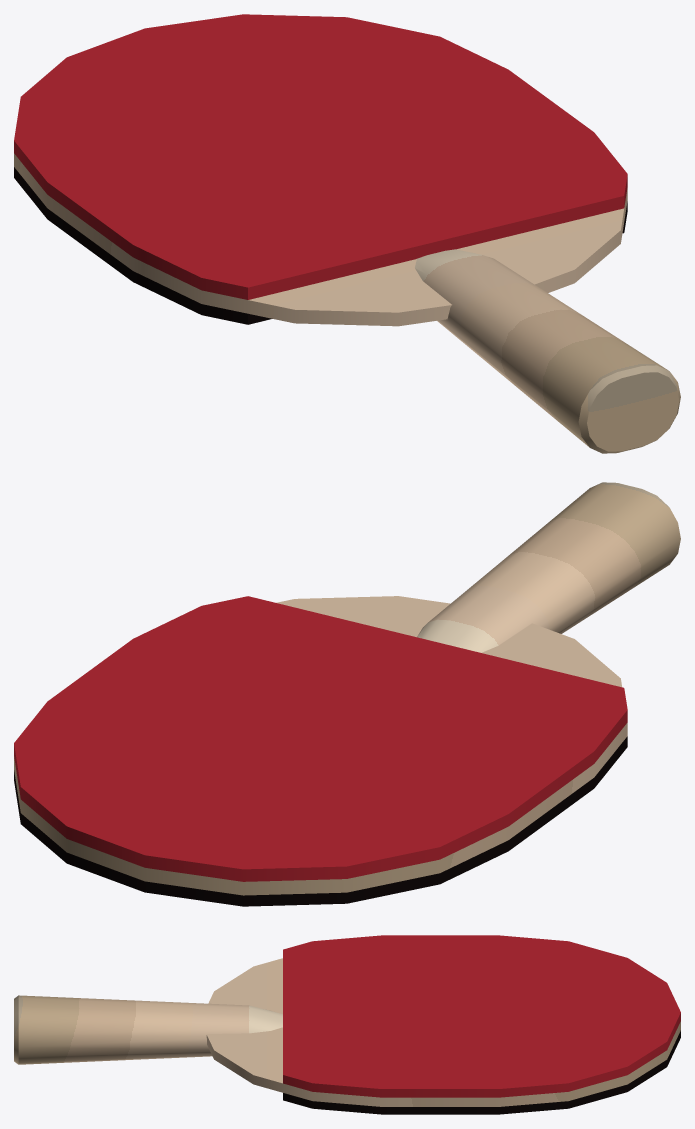
Rendered from ttschlager.gltf.
3 views of the same model, one above another, from view 1: azimuth 30°, elevation 25°; view 2: azimuth 150°, elevation 25°; view 3: azimuth 270°, elevation 25° (orthographic). The views are drawn at different scales.
Visible parts, largest first — view 1: schlager; view 2: schlager; view 3: schlager.
Part boxes in pixels (box(x1,y1,x2,y2)): schlager: box(14, 14, 680, 453); schlager: box(14, 482, 680, 906); schlager: box(14, 935, 680, 1114).
Size of the model in its own units: 0.6 by 0.1008 by 1.1.
Materials: 1 (1 with a texture image).
